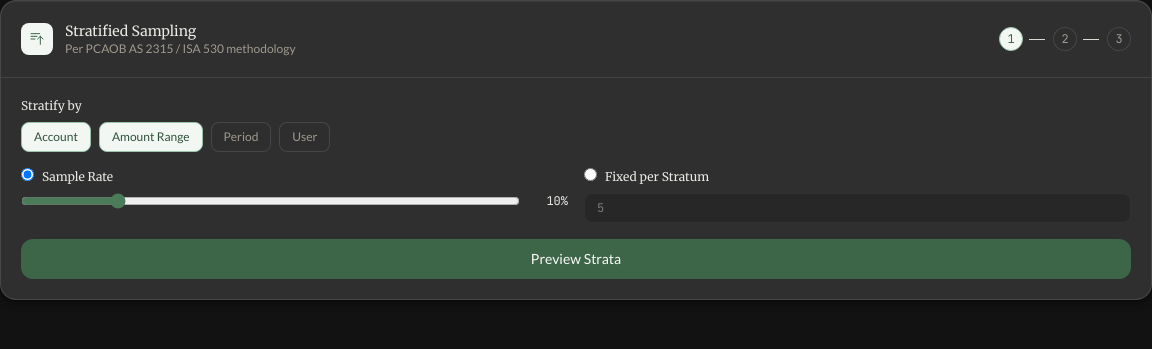
Test case: SamplingPanel › shows error when API throws
Click the button "Preview Strata": click(576, 259) x1=21 y1=239 x2=1131 y2=279
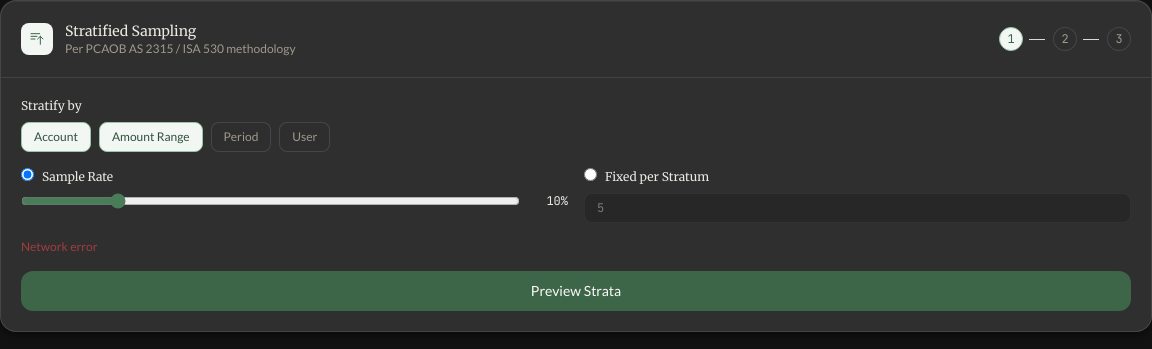
Now the text "Network error" is shown, box x1=21 y1=239 x2=98 y2=254
